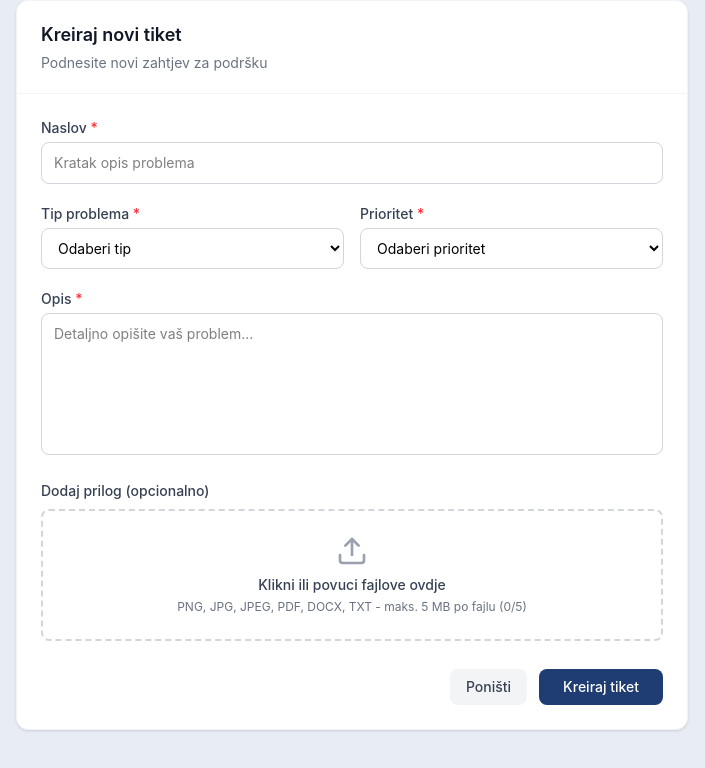
CreateTicket page › shows validation error when subject is empty
Select "Internet" in the dropdown labelled "Tip problema *" at (192, 248), box x1=41 y1=228 x2=344 y2=269
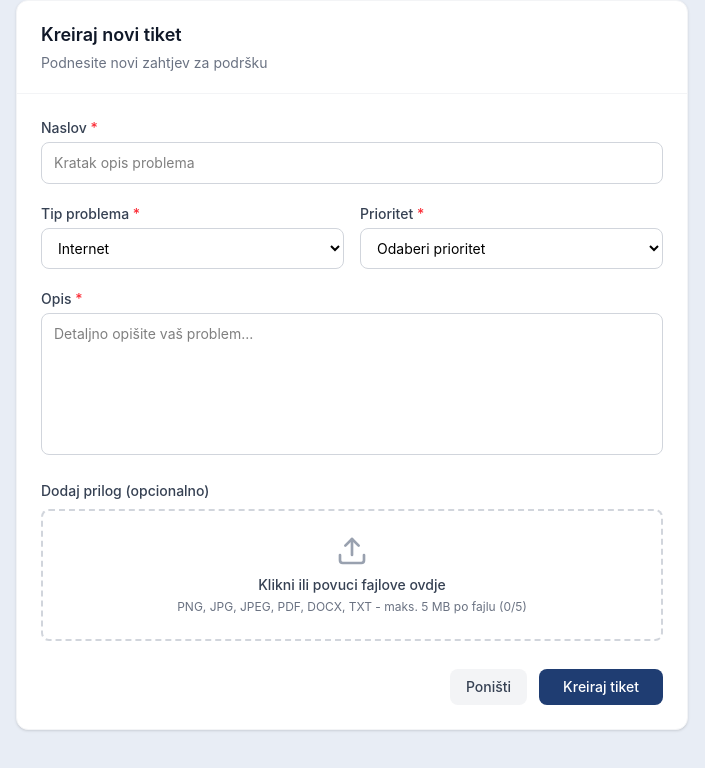
Type "Ne radi internet" into the text box labelled "Opis *" at (352, 384), box x1=41 y1=313 x2=663 y2=455
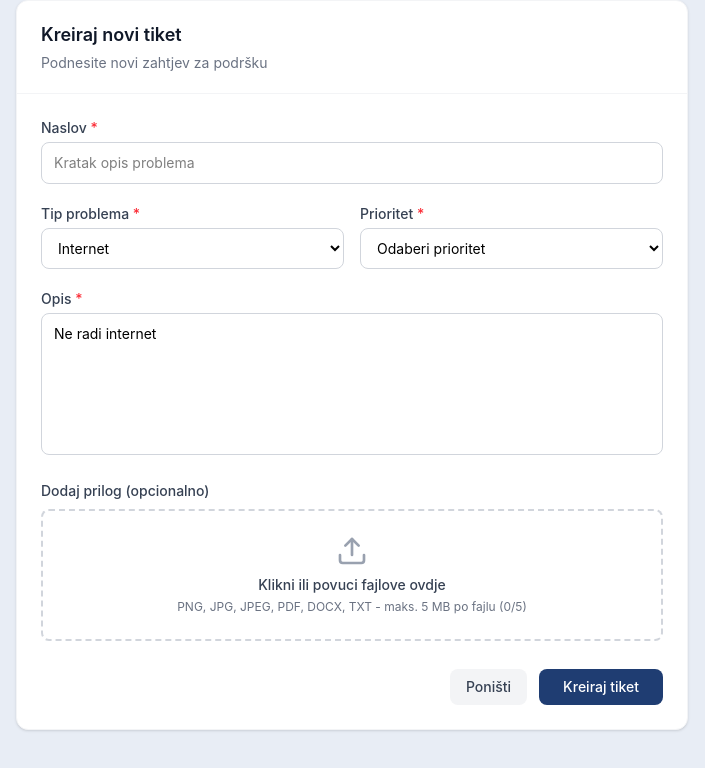
Select "Visok" in the dropdown labelled "Prioritet *" at (512, 248), box x1=360 y1=228 x2=663 y2=269
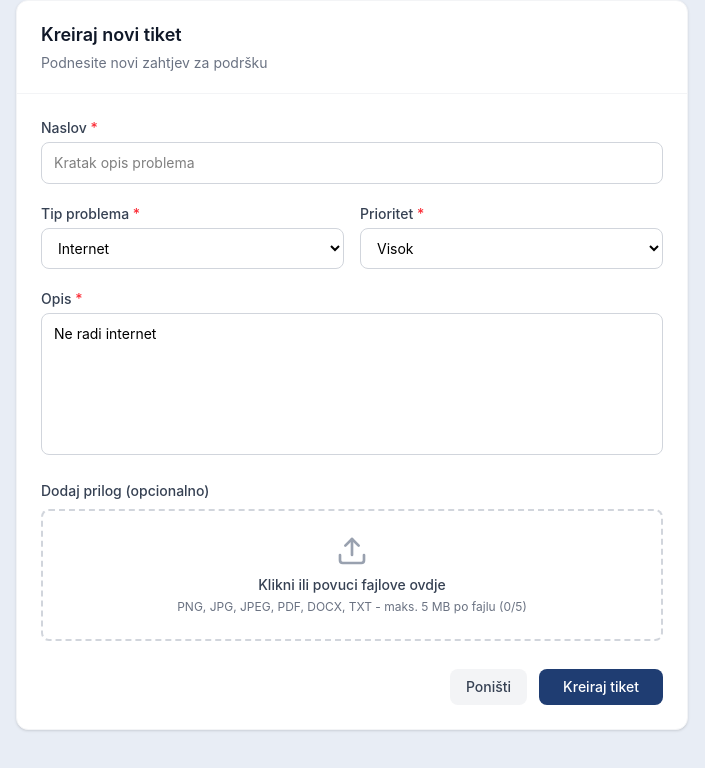
Submit the form named "kreiraj tiket"
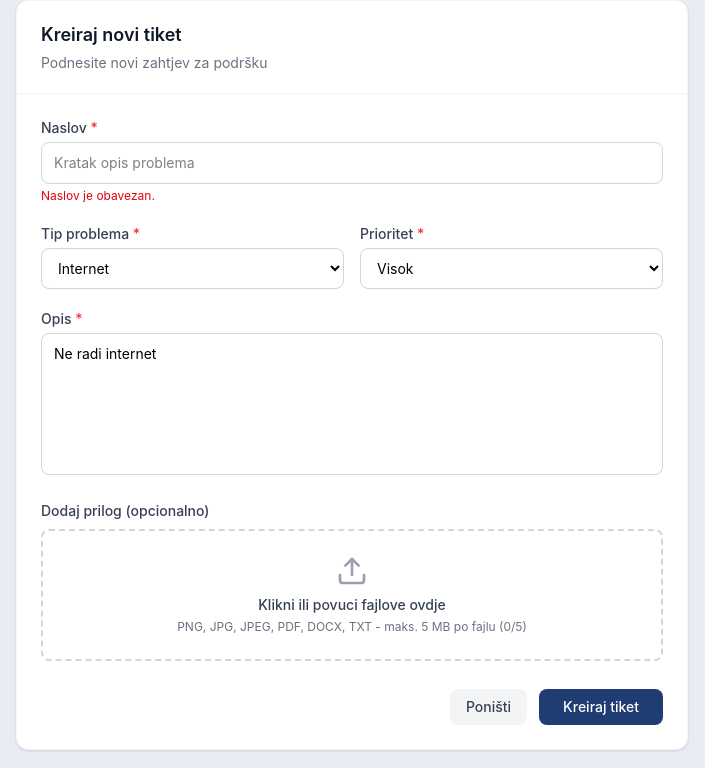
Expected: the text "Naslov je obavezan." is shown, x1=41 y1=188 x2=155 y2=203
